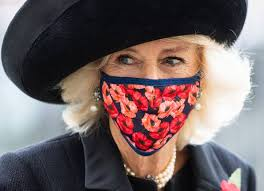mask: (99, 71, 202, 154)
